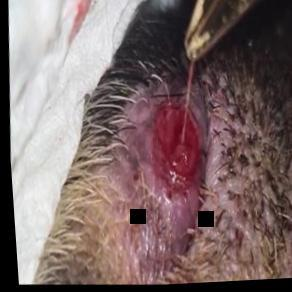skin_lesions: (137, 83, 213, 211)
